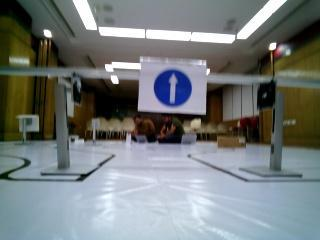straight: (137, 55, 205, 114)
